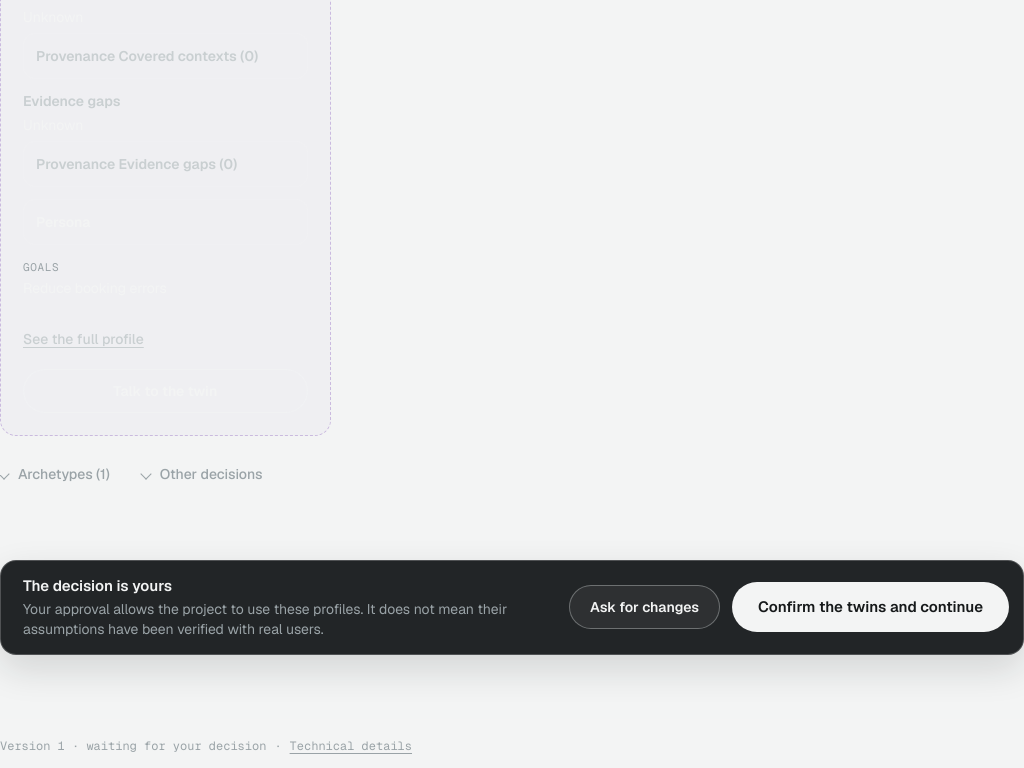
Test: ProjectUserModelingFlow › renders User Twin epistemic status, confidence, validation requirement and provenance
(page scrolled)
Click the button with test id "open-twin-profile" at (83, 338), box [23,316,144,360]
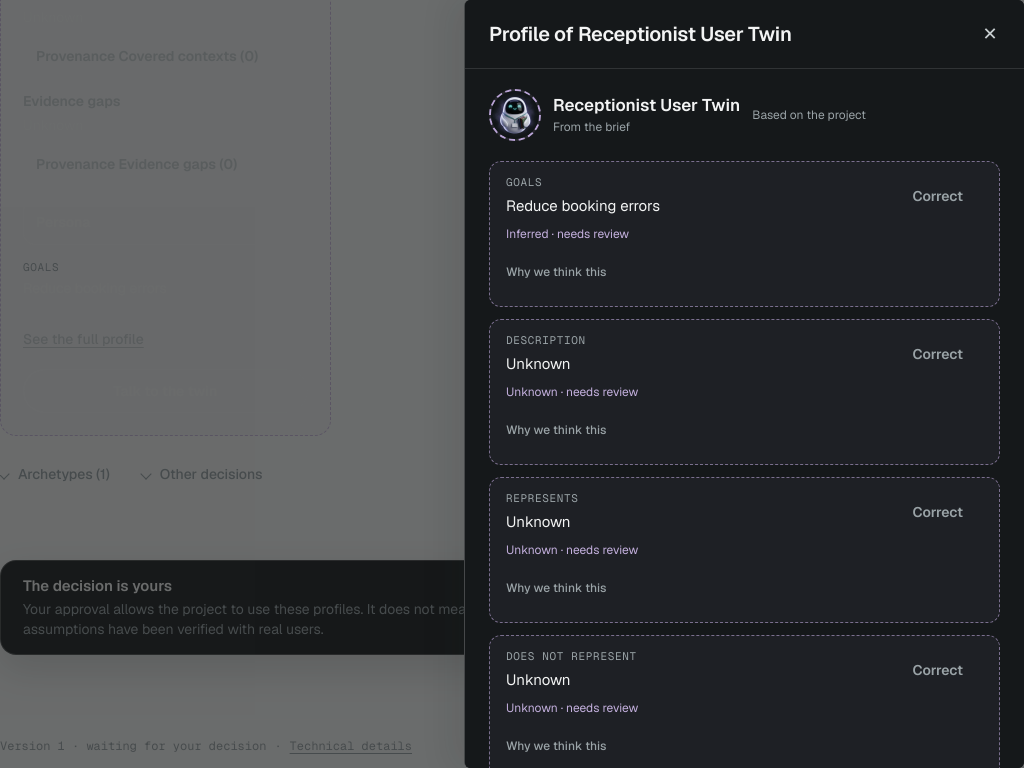
Check: the element with test id "twin-profile-details" shows "Inferred", box [506,226,629,242]
Click the button with test id "side-panel-close" at (990, 34), box [968,12,1012,56]
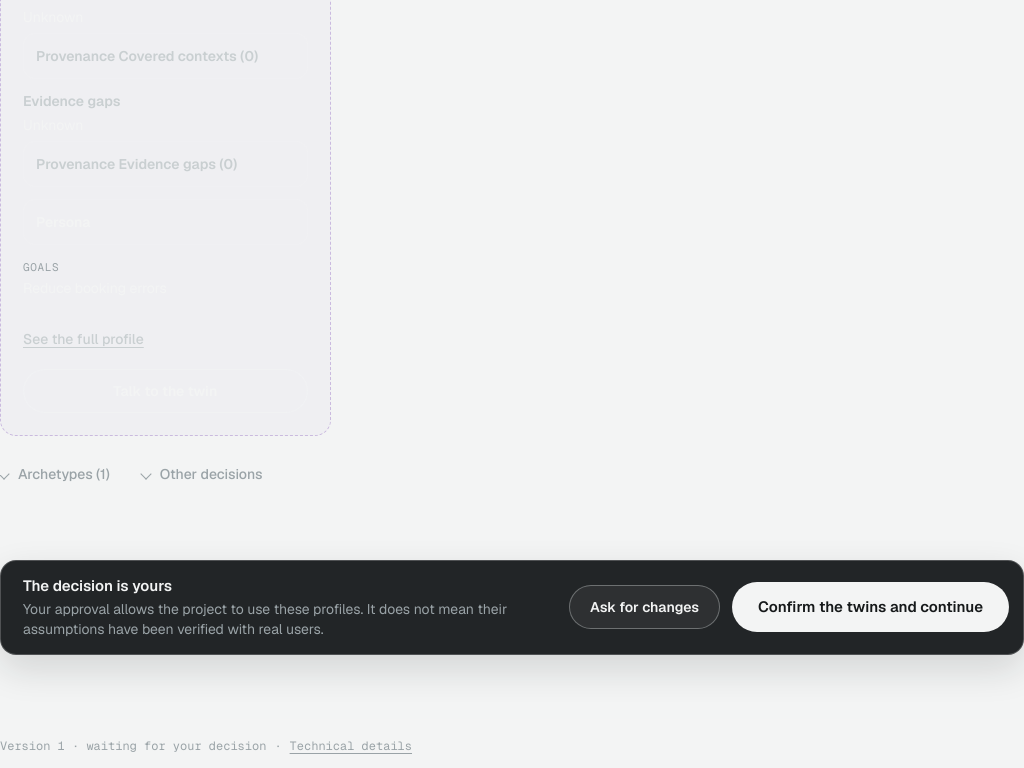
Click the button with test id "step-technical-details-toggle" at (206, 746), box [0,724,412,767]
(page scrolled)
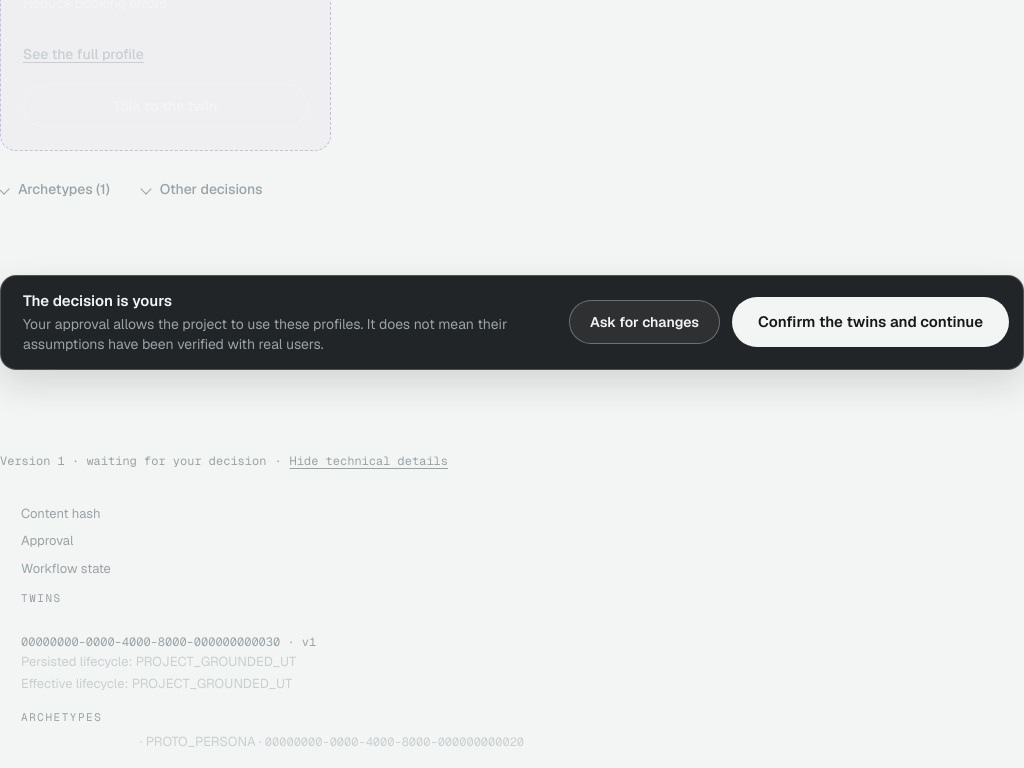
Check: the text "PROJECT_GROUNDED_UT" is shown, box [21,653,296,670]
Check: the element with test id "twin-technical-details" is shown, box [21,614,316,692]
